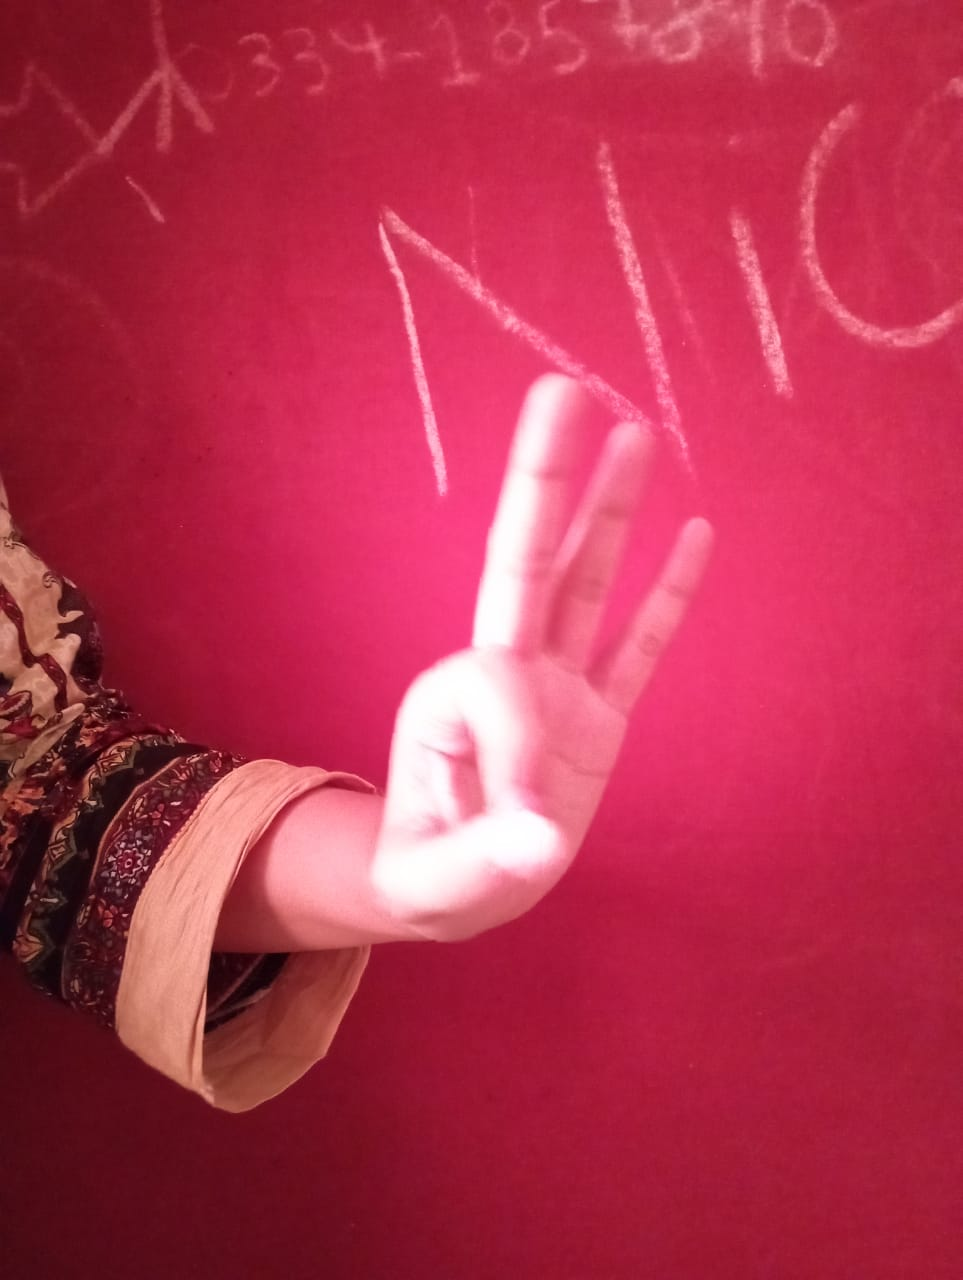Awesome: (364, 365, 738, 943)
